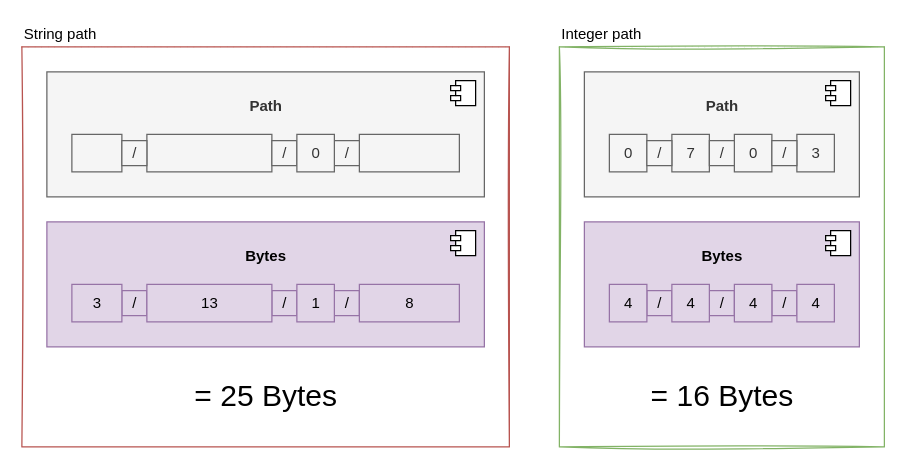
Image size: 906x469. Some labels were removed from this diagram. The centre of each missing label's shape, as x and y in pixels:
cca_mode: (x=408, y=152)
ieee_802_15_4: (x=209, y=152)
sys: (x=96, y=152)
